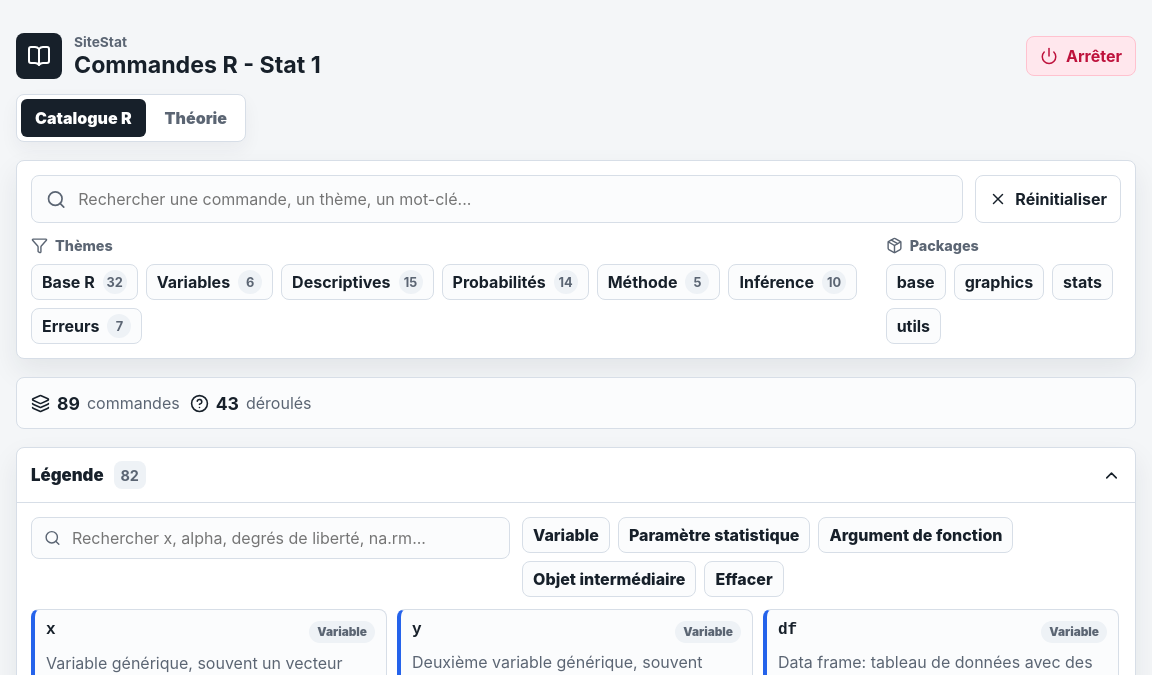
it: App › ouvre et ferme les fiches de théorie en lot
The width and height of the screenshot is (1152, 675).
Click the button "Théorie" at {"x": 196, "y": 118}, box [151, 99, 241, 137]
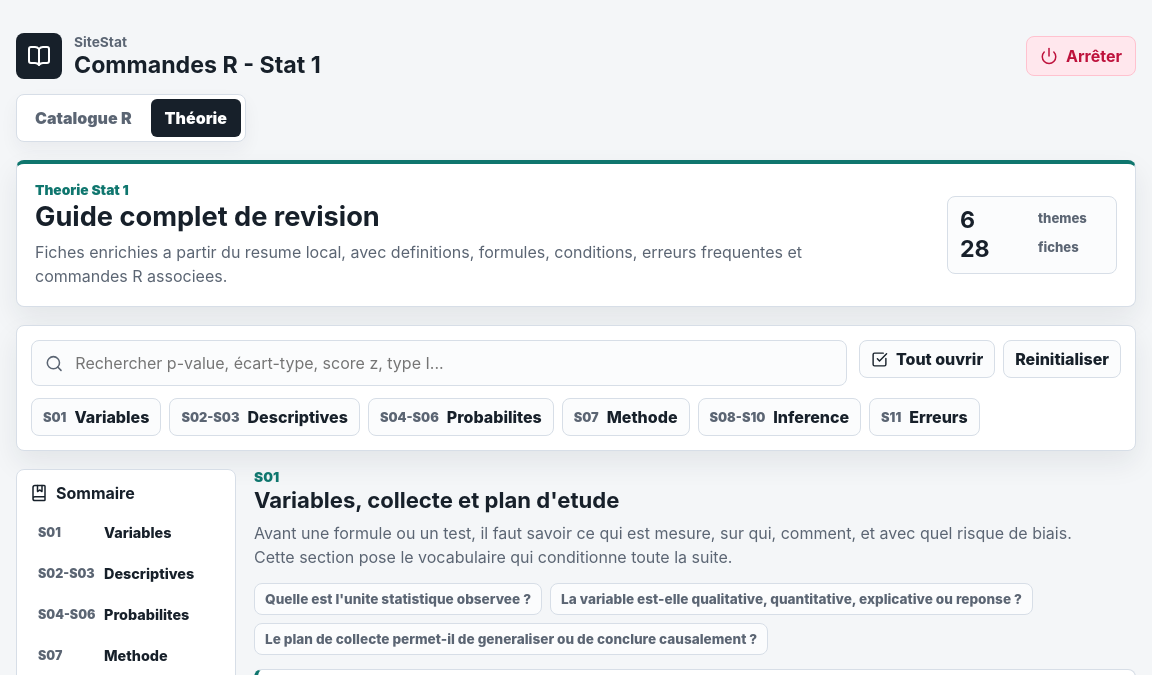
Click the button "Tout ouvrir" at {"x": 927, "y": 359}, box [859, 340, 995, 378]
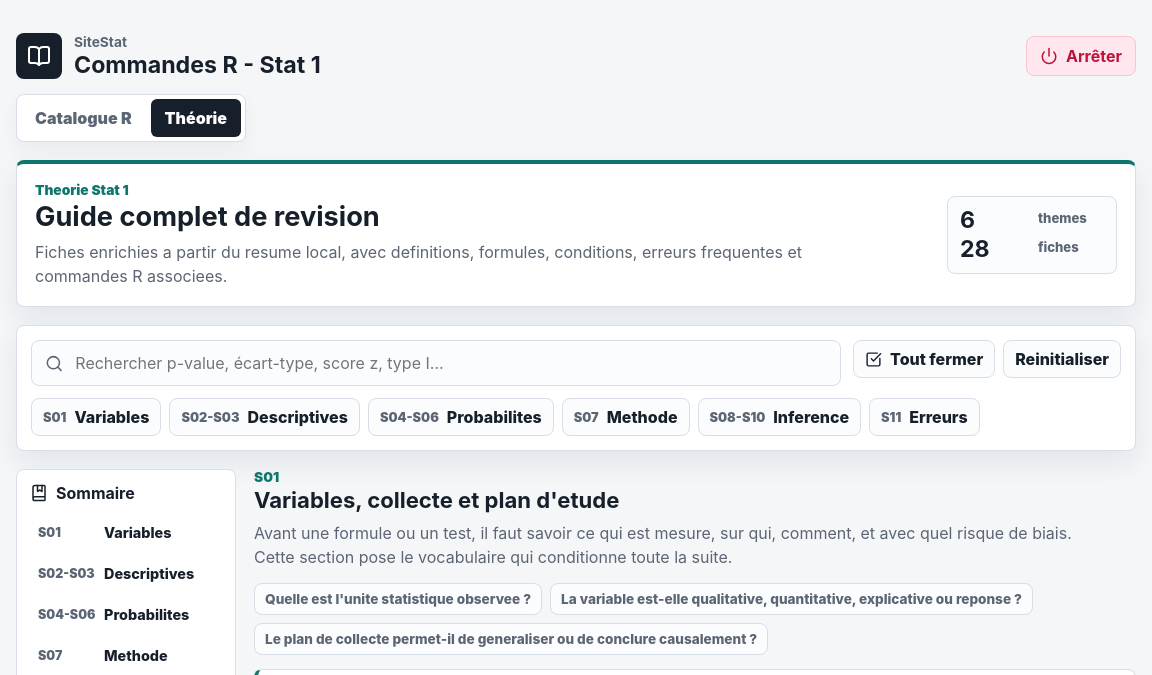
Now the button "Tout fermer" is shown, box [853, 340, 995, 378]
